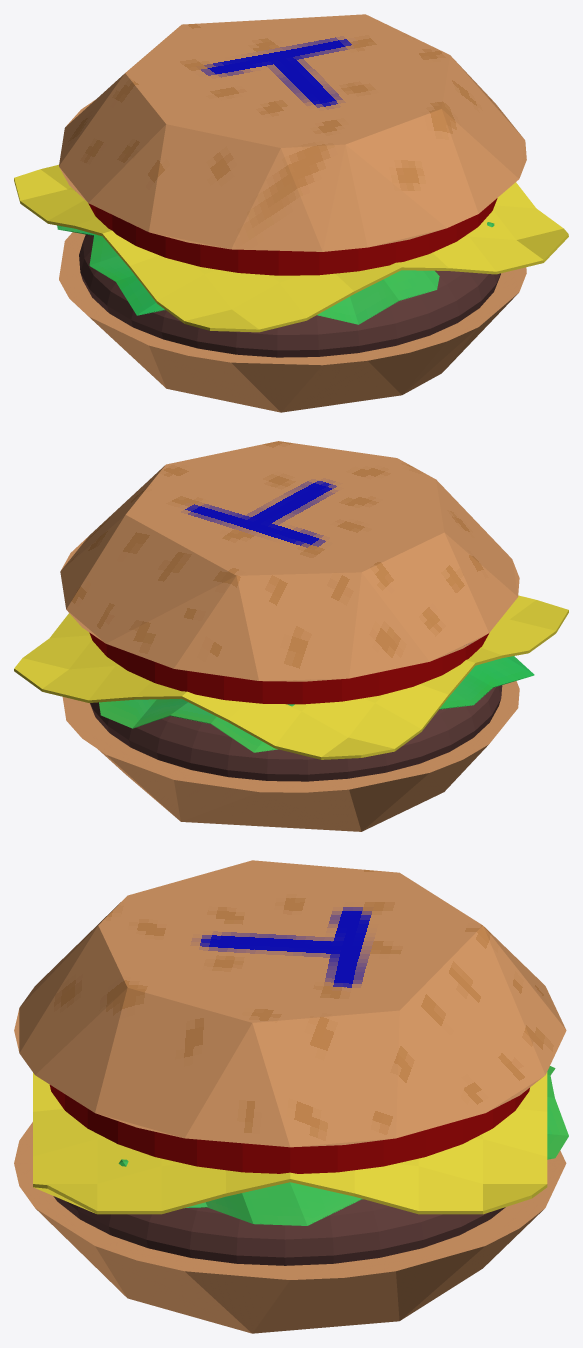
Rendered from Burger NoTex.fbx.
3 renders of one model, top to bottom at view 1: azimuth 30°, elevation 25°; view 2: azimuth 150°, elevation 25°; view 3: azimuth 270°, elevation 25°, orthographic. The views are drawn at different scales.
Parts seen in each view (by area): view 1: bottom bun.001, Cheese, bottom bun, meet, tomato, letus; view 2: bottom bun.001, Cheese, bottom bun, meet, tomato, letus; view 3: bottom bun.001, bottom bun, Cheese, meet, tomato, letus.
Boxes of the visible parts, x1,y1,x2,y2 form: bottom bun.001: [59, 14, 526, 251]; Cheese: [14, 164, 568, 332]; bottom bun: [59, 232, 526, 412]; meet: [79, 234, 500, 357]; tomato: [88, 198, 497, 275]; letus: [57, 222, 494, 324]; bottom bun.001: [60, 441, 519, 681]; Cheese: [14, 595, 568, 759]; bottom bun: [62, 681, 519, 831]; meet: [90, 685, 502, 781]; tomato: [89, 632, 488, 704]; letus: [99, 656, 534, 752]; bottom bun.001: [14, 860, 566, 1147]; bottom bun: [14, 1122, 566, 1333]; Cheese: [33, 1072, 547, 1214]; meet: [53, 1196, 505, 1265]; tomato: [49, 1085, 529, 1173]; letus: [118, 1066, 568, 1225].
Bounding box in the file's own units: 129 × 80.28 × 130.
